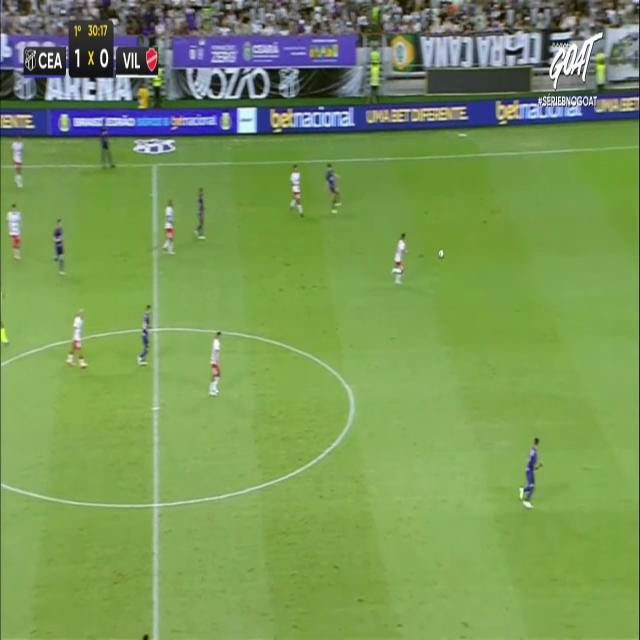ball: (435, 245, 445, 262)
player: (519, 436, 543, 509), (97, 119, 120, 178), (66, 308, 88, 368), (6, 202, 22, 260), (137, 303, 151, 365), (209, 330, 222, 396), (391, 231, 407, 284), (325, 162, 341, 213), (52, 217, 66, 275), (289, 163, 304, 217), (162, 198, 175, 254), (11, 135, 24, 188), (194, 186, 206, 238)
referee: (0, 308, 12, 351)
